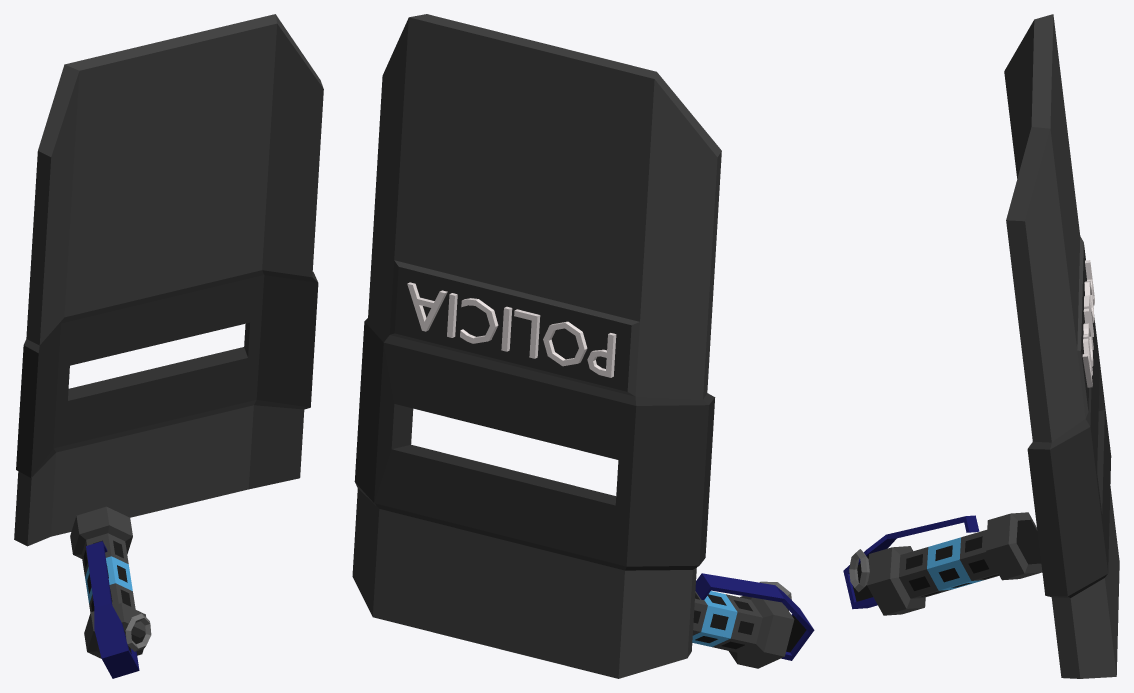
The model's file is RiotZombieLowLOD.glb.
3 views of the same model, side by side, from view 1: azimuth 30°, elevation 25°; view 2: azimuth 150°, elevation 25°; view 3: azimuth 270°, elevation 25° (orthographic). The views are drawn at different scales.
Visible parts, largest first — view 1: PoliceShield, FlashBang; view 2: PoliceShield, FlashBang; view 3: PoliceShield, FlashBang.
Boxes of the visible parts, box(x1,y1,x2,y2) form: PoliceShield: box(14, 14, 323, 546); FlashBang: box(70, 506, 151, 678); PoliceShield: box(352, 14, 721, 678); FlashBang: box(692, 573, 814, 668); PoliceShield: box(1004, 14, 1119, 678); FlashBang: box(843, 512, 1042, 615).
Size of the model in its own units: 1.07 by 1.87 by 0.764.
Materials: 2 (2 with a texture image).
